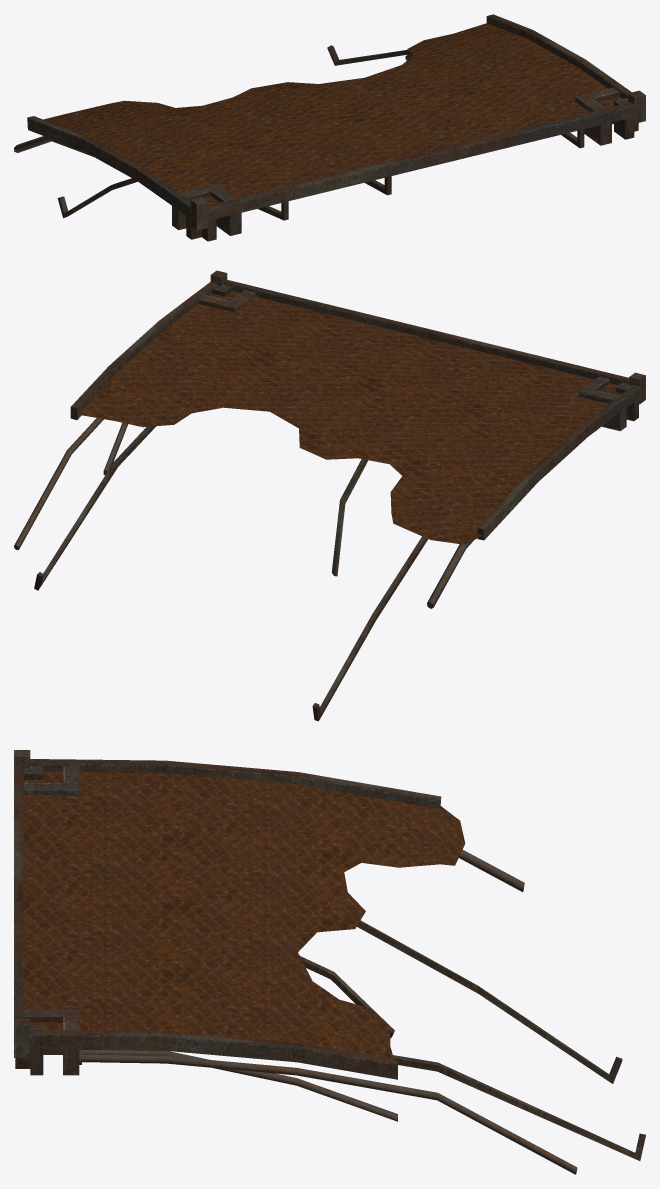
The model's file is SM_Platform_Broken_A.fbx.
3 views of the same model, one above another, from view 1: azimuth 30°, elevation 25°; view 2: azimuth 150°, elevation 25°; view 3: azimuth 270°, elevation 25° (orthographic). The views are drawn at different scales.
Visible parts, largest first — view 1: SM_Platform_Broken_A; view 2: SM_Platform_Broken_A; view 3: SM_Platform_Broken_A.
Boxes of the visible parts, bbox=[...] form: SM_Platform_Broken_A: bbox=[14, 14, 645, 241]; SM_Platform_Broken_A: bbox=[14, 270, 645, 721]; SM_Platform_Broken_A: bbox=[14, 750, 645, 1174].
Size of the model in its own units: 200 by 90.8 by 194.
